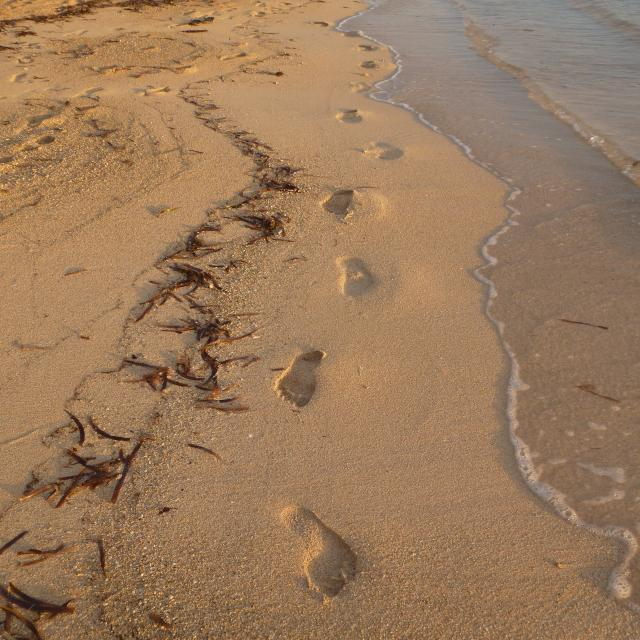human_foot_print: (264, 329, 370, 640)
